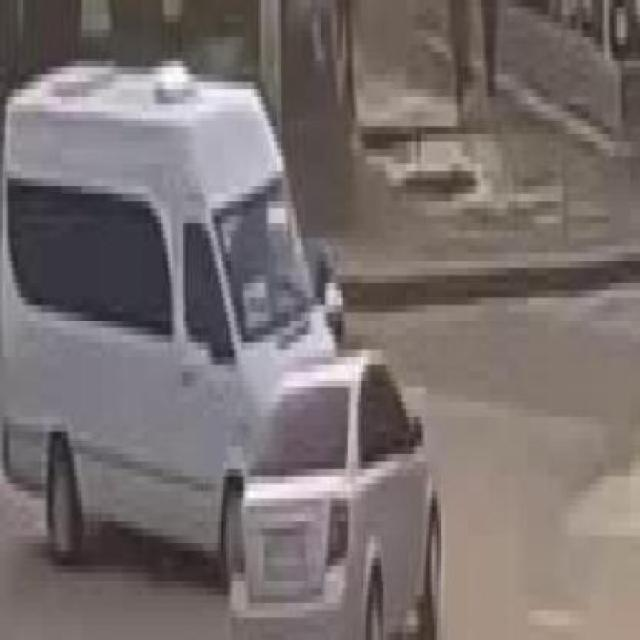accident: (2, 55, 449, 640)
